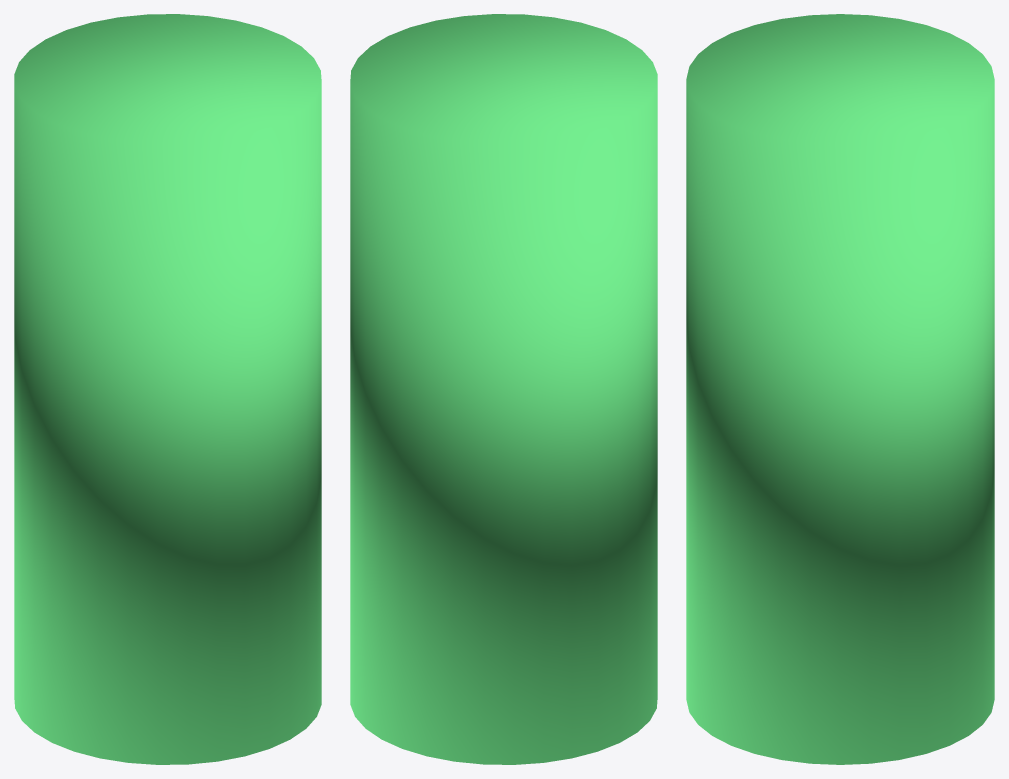
File: CROSSOVER_CoilSpring_RR.glb
The picture shows the model from 3 angles, left to right: view 1: azimuth 30°, elevation 25°; view 2: azimuth 150°, elevation 25°; view 3: azimuth 270°, elevation 25°; orthographic projection.
Visible parts, largest first — view 1: CROSSOVER_CoilSpring_RR; view 2: CROSSOVER_CoilSpring_RR; view 3: CROSSOVER_CoilSpring_RR.
Part boxes in pixels (box(x1,y1,x2,y2)): CROSSOVER_CoilSpring_RR: box(14, 14, 321, 764); CROSSOVER_CoilSpring_RR: box(350, 14, 657, 764); CROSSOVER_CoilSpring_RR: box(686, 14, 994, 764).
Bounding box in the file's own units: 0.09 × 0.2 × 0.09.
